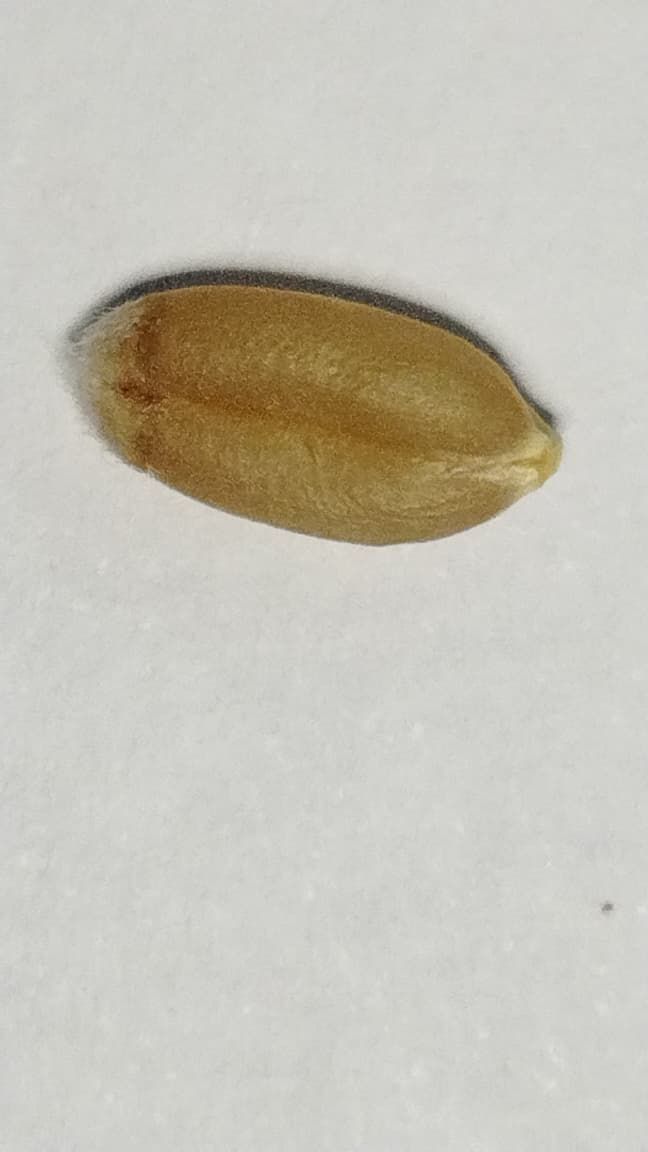healthy: (65, 278, 560, 545)
